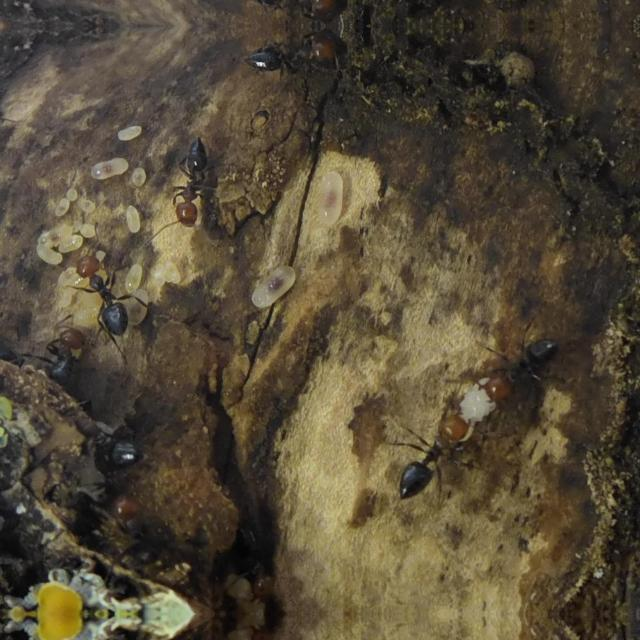Crematogaster: (478, 324, 578, 406), (390, 406, 474, 496), (72, 235, 138, 335), (241, 30, 349, 84), (110, 490, 174, 570), (36, 318, 100, 387), (170, 142, 217, 232), (241, 0, 349, 20)
